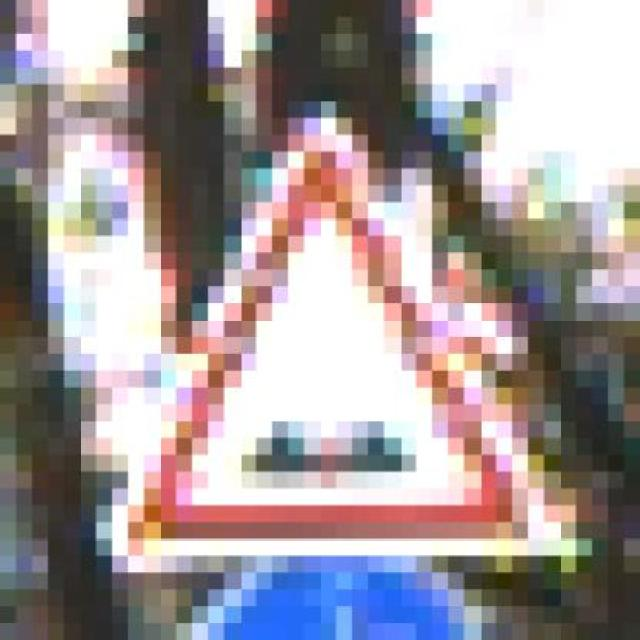Uneven Road: (111, 84, 544, 573)
